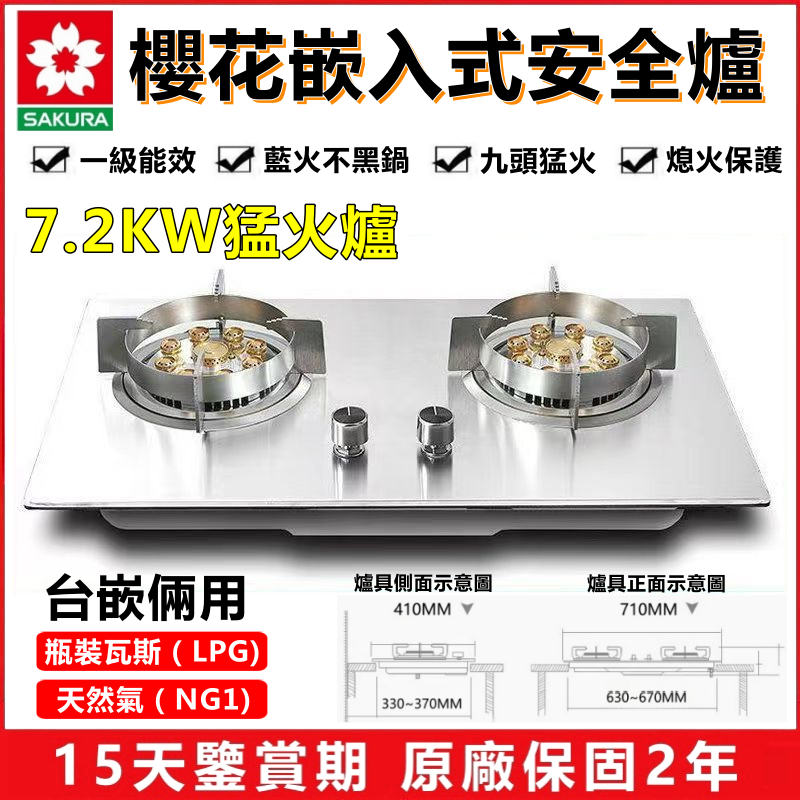gasoven: (22, 264, 772, 547)
